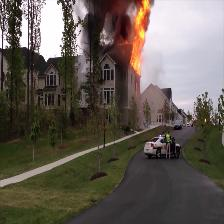fire: (136, 6, 146, 60)
smoke: (84, 4, 128, 43)
